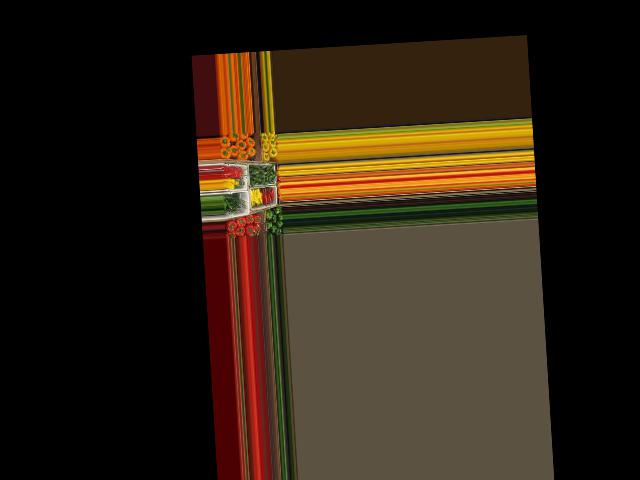bell_pepper: (264, 219, 275, 230)
